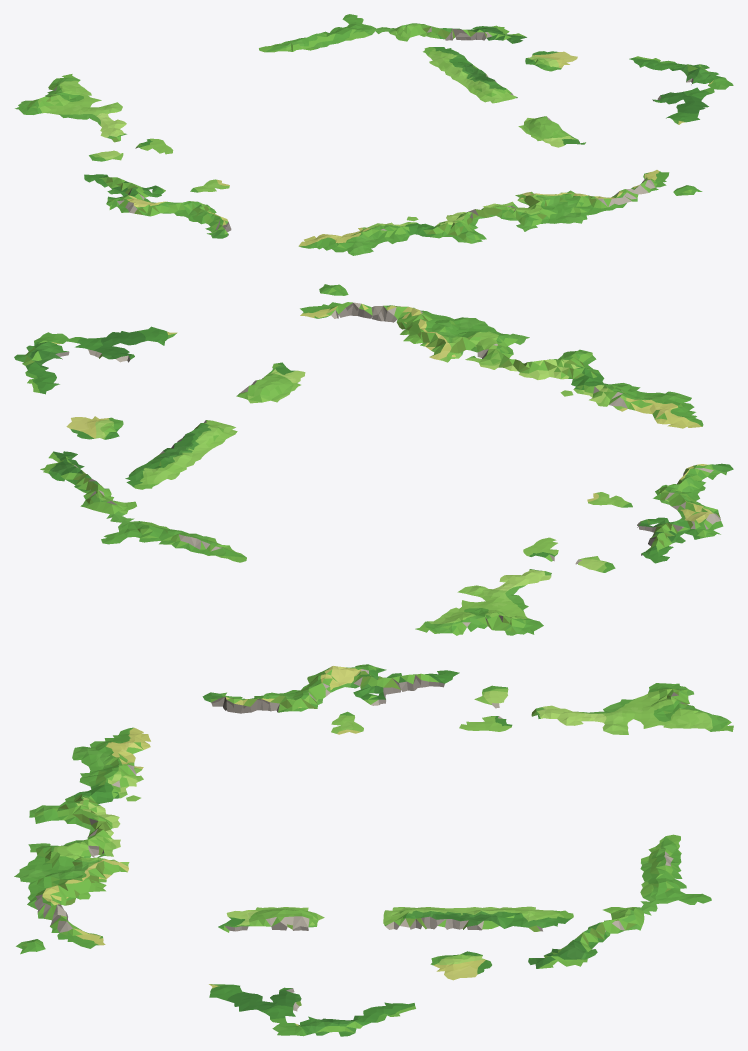
Rendered from Isl-orc1-Relief.fbx.
3 views of the same model, one above another, from view 1: azimuth 30°, elevation 25°; view 2: azimuth 150°, elevation 25°; view 3: azimuth 270°, elevation 25° (orthographic). The views are drawn at different scales.
Parts seen in each view (by area): view 1: Isl-orc1-Relief-c22, Isl-orc1-Relief-c21, Isl-orc1-Relief-c11, Isl-orc1-Relief-c12, Isl-orc1-Relief-c31, Isl-orc1-Relief-c02, Isl-orc1-Relief-c01, Isl-orc1-Relief-c32, Isl-orc1-Relief-c13; view 2: Isl-orc1-Relief-c22, Isl-orc1-Relief-c21, Isl-orc1-Relief-c11, Isl-orc1-Relief-c12, Isl-orc1-Relief-c31, Isl-orc1-Relief-c02, Isl-orc1-Relief-c13, Isl-orc1-Relief-c32, Isl-orc1-Relief-c01; view 3: Isl-orc1-Relief-c22, Isl-orc1-Relief-c21, Isl-orc1-Relief-c11, Isl-orc1-Relief-c12, Isl-orc1-Relief-c31, Isl-orc1-Relief-c02, Isl-orc1-Relief-c13, Isl-orc1-Relief-c32, Isl-orc1-Relief-c01.
Part boxes in pixels (<box>): Isl-orc1-Relief-c22: <box>259,23,572,103</box>; Isl-orc1-Relief-c21: <box>481,116,702,231</box>; Isl-orc1-Relief-c11: <box>173,183,486,255</box>; Isl-orc1-Relief-c12: <box>30,90,221,197</box>; Isl-orc1-Relief-c31: <box>652,65,733,124</box>; Isl-orc1-Relief-c02: <box>15,101,156,209</box>; Isl-orc1-Relief-c01: <box>119,200,184,216</box>; Isl-orc1-Relief-c32: <box>559,51,705,71</box>; Isl-orc1-Relief-c13: <box>26,74,86,101</box>; Isl-orc1-Relief-c22: <box>40,416,246,562</box>; Isl-orc1-Relief-c21: <box>236,284,529,403</box>; Isl-orc1-Relief-c11: <box>510,349,733,509</box>; Isl-orc1-Relief-c12: <box>447,497,666,626</box>; Isl-orc1-Relief-c31: <box>14,326,177,363</box>; Isl-orc1-Relief-c02: <box>512,516,720,634</box>; Isl-orc1-Relief-c13: <box>415,612,511,635</box>; Isl-orc1-Relief-c32: <box>14,355,84,428</box>; Isl-orc1-Relief-c01: <box>677,494,723,528</box>; Isl-orc1-Relief-c22: <box>383,834,682,974</box>; Isl-orc1-Relief-c21: <box>14,828,324,954</box>; Isl-orc1-Relief-c11: <box>29,686,348,834</box>; Isl-orc1-Relief-c12: <box>345,688,681,734</box>; Isl-orc1-Relief-c31: <box>209,984,348,1036</box>; Isl-orc1-Relief-c02: <box>345,664,680,695</box>; Isl-orc1-Relief-c13: <box>678,691,733,731</box>; Isl-orc1-Relief-c32: <box>345,974,476,1035</box>; Isl-orc1-Relief-c01: <box>286,666,347,692</box>.
Bounding box in the file's own units: 116 × 1.81 × 95.06.
